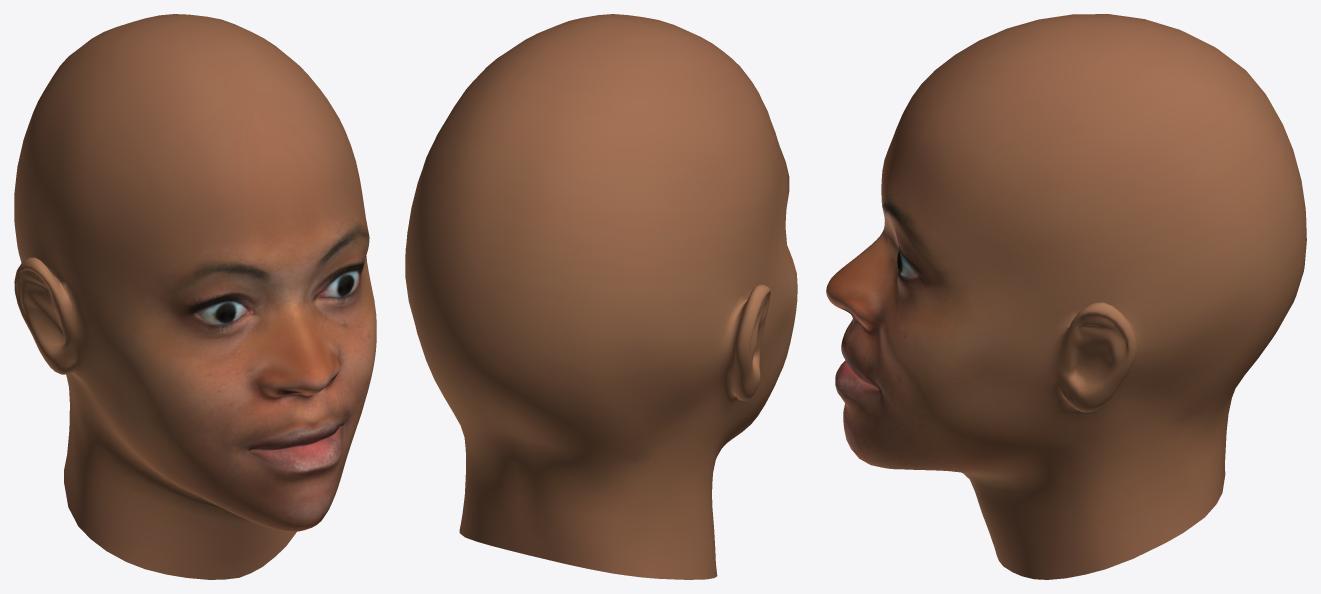
Rendered from v332_obj_ExpressionJawForward.obj.
The picture shows the model from 3 angles, left to right: view 1: azimuth 30°, elevation 25°; view 2: azimuth 150°, elevation 25°; view 3: azimuth 270°, elevation 25°; orthographic projection. The views are drawn at different scales.
Visible parts, largest first — view 1: HeadHires; view 2: HeadHires; view 3: HeadHires.
Part boxes in pixels (x1,y1,x2,y2): HeadHires: (14,14,376,579); HeadHires: (405,14,797,579); HeadHires: (826,14,1306,579).
Bounding box in the file's own units: 187 × 282 × 233.
